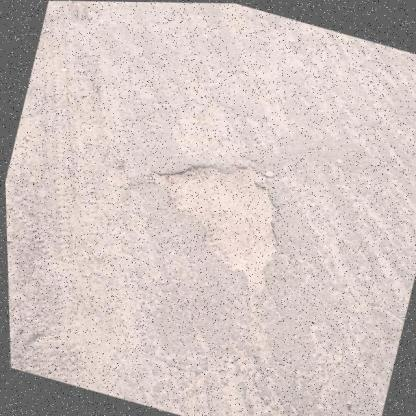pothole: (122, 134, 300, 296)
